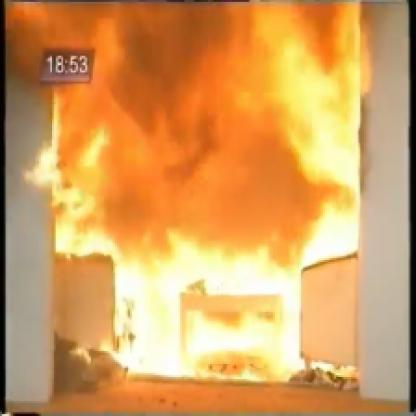fire: (79, 227, 380, 386), (31, 0, 182, 285), (220, 7, 369, 238)
